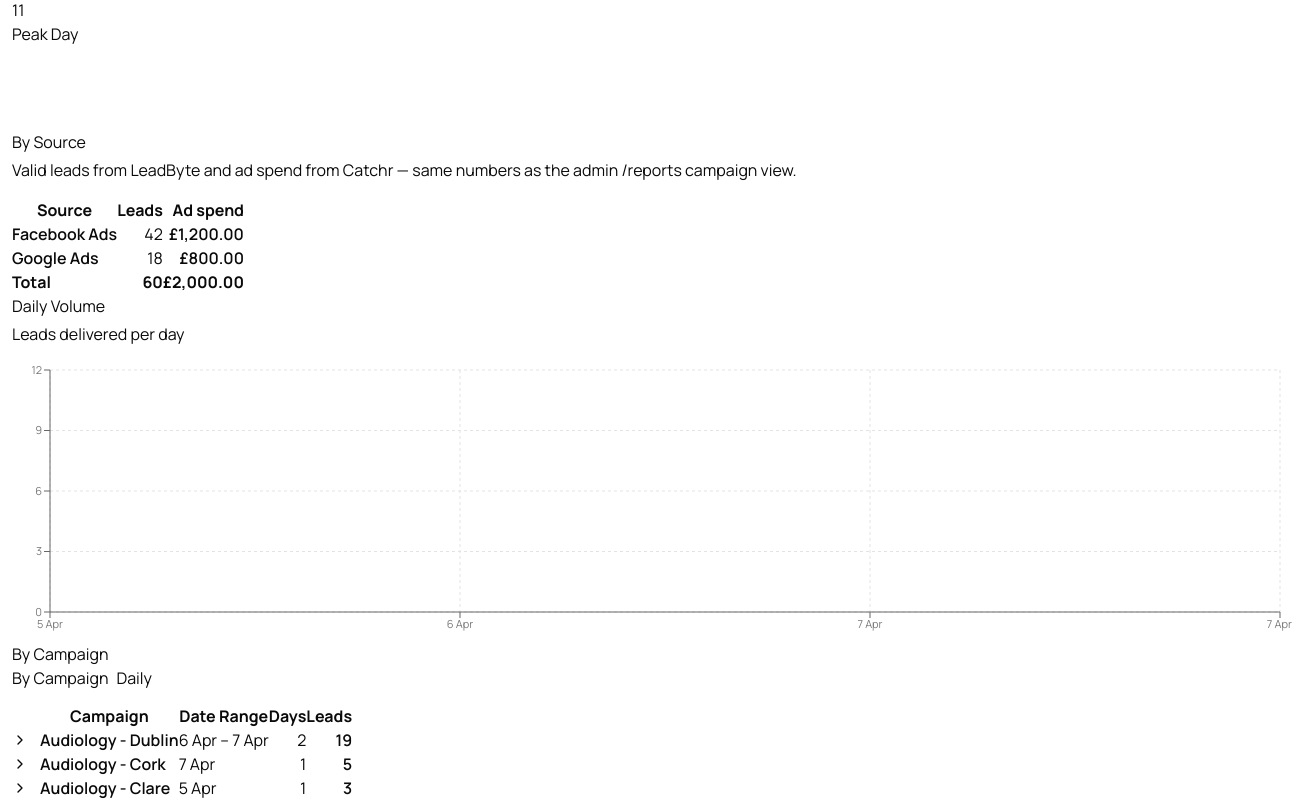
Test case: PortalLeadsPage — By Campaign › expands a campaign to show its daily breakdown
(page scrolled)
Step 1. Click the text "Audiology - Dublin" → (182, 740), box [12, 728, 352, 752]
(page scrolled)
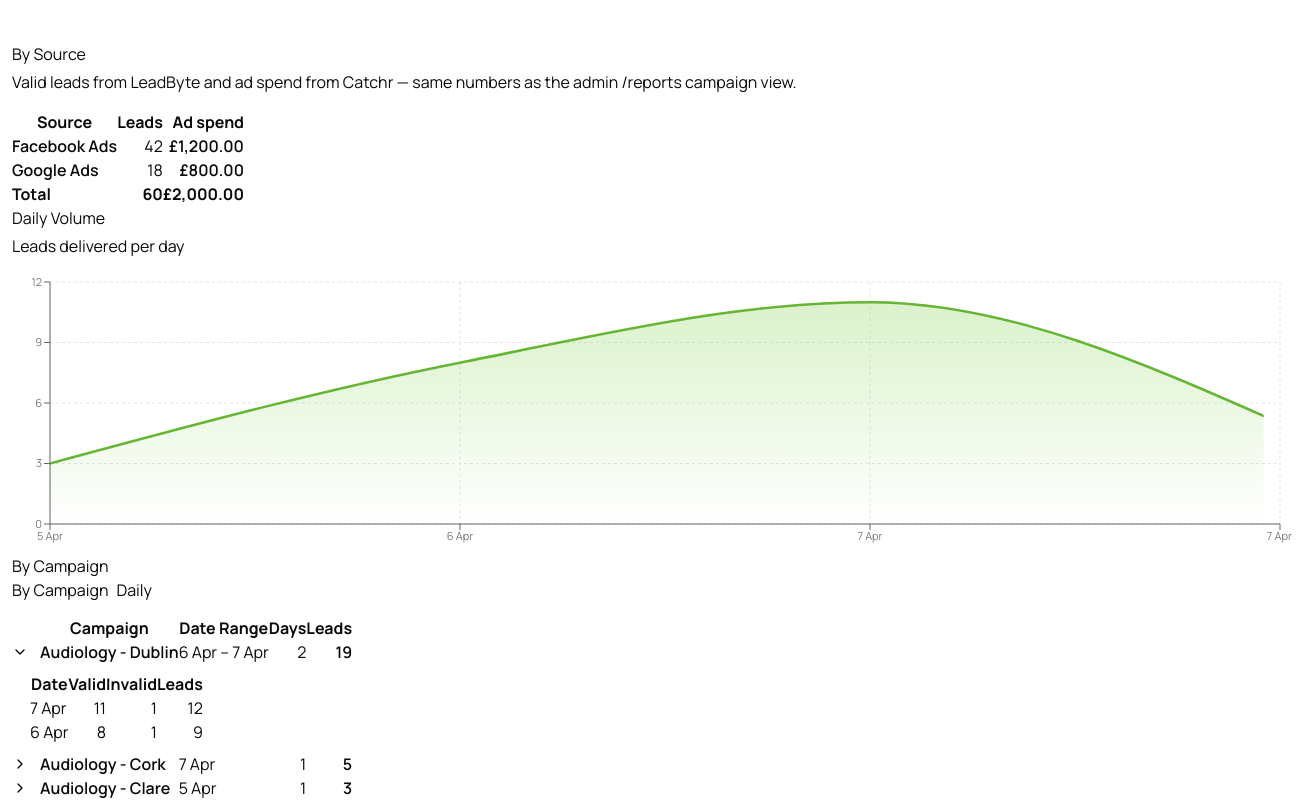
Expected: the 1st text "1" is shown, [106, 696, 157, 720]
